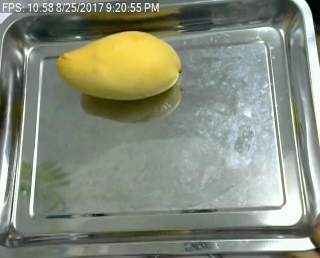Mango: (53, 28, 184, 102)
